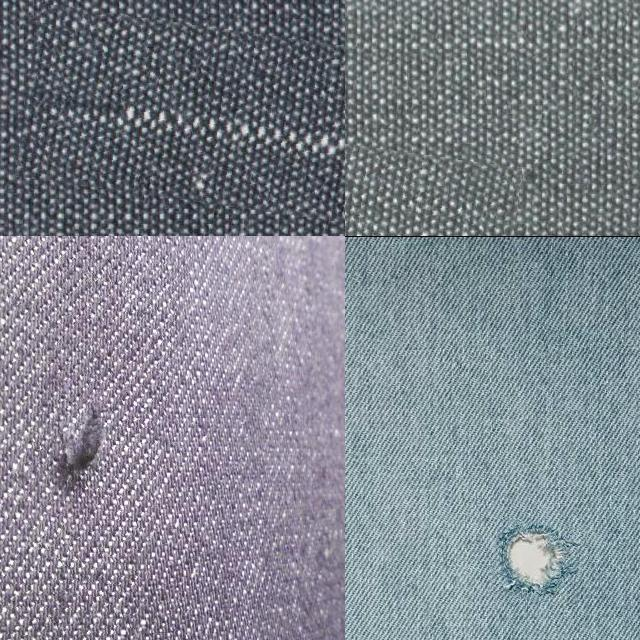other: (491, 520, 586, 604)
stains: (0, 236, 175, 640), (20, 16, 345, 218), (345, 126, 517, 236)
